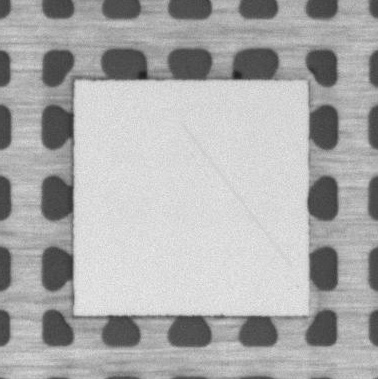DIE_CRACK: (180, 121, 290, 267)
